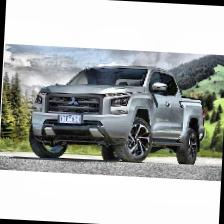NON-EV: (28, 61, 209, 169)
